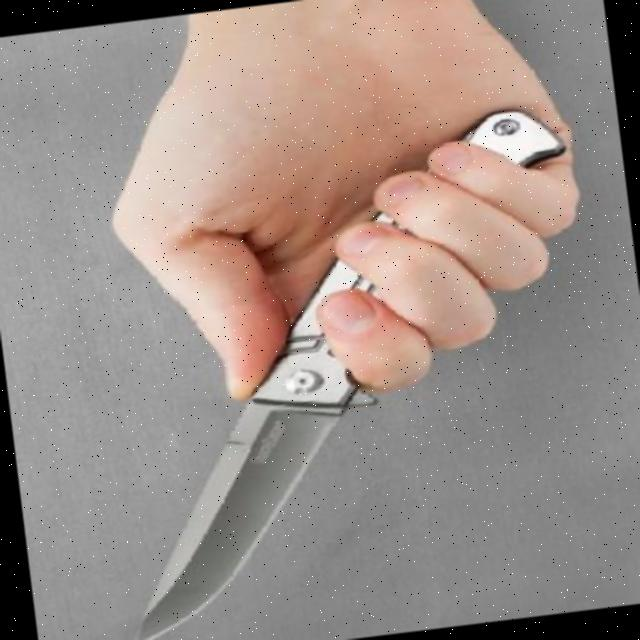Knife: (78, 110, 612, 640)
